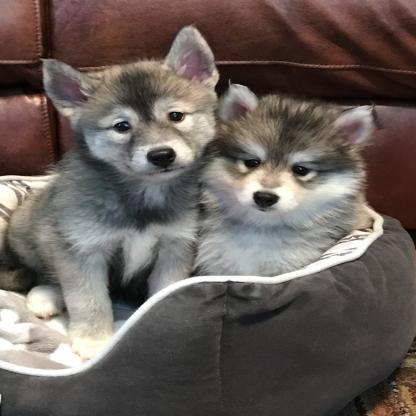dog: (10, 25, 216, 349), (190, 81, 376, 276)
